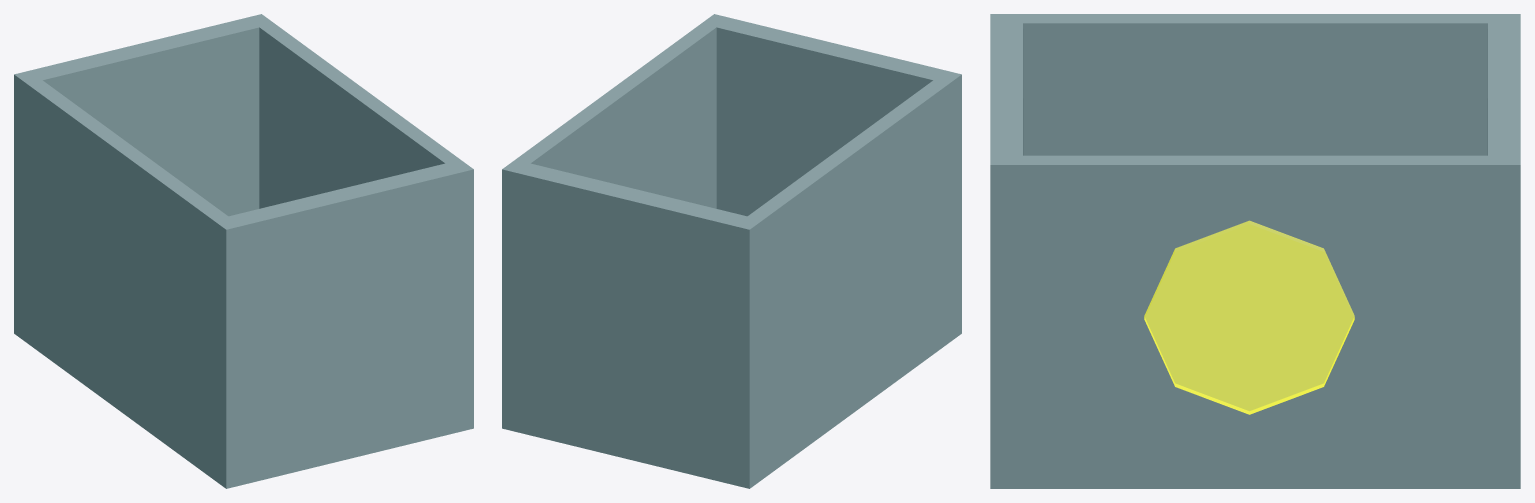
Rendered from CajaAma.fbx.
The picture shows the model from 3 angles, left to right: view 1: azimuth 30°, elevation 25°; view 2: azimuth 150°, elevation 25°; view 3: azimuth 270°, elevation 25°; orthographic projection. The views are drawn at different scales.
Parts seen in each view (by area): view 1: Cubo.001; view 2: Cubo.001; view 3: Cubo.001, Cilindro.001.
Part boxes in pixels (x1,y1,x2,y2): Cubo.001: (14, 14, 473, 488); Cubo.001: (502, 14, 961, 488); Cubo.001: (990, 14, 1520, 488); Cilindro.001: (1144, 220, 1354, 414).
Bounding box in the file's own units: 205 × 200 × 297.
